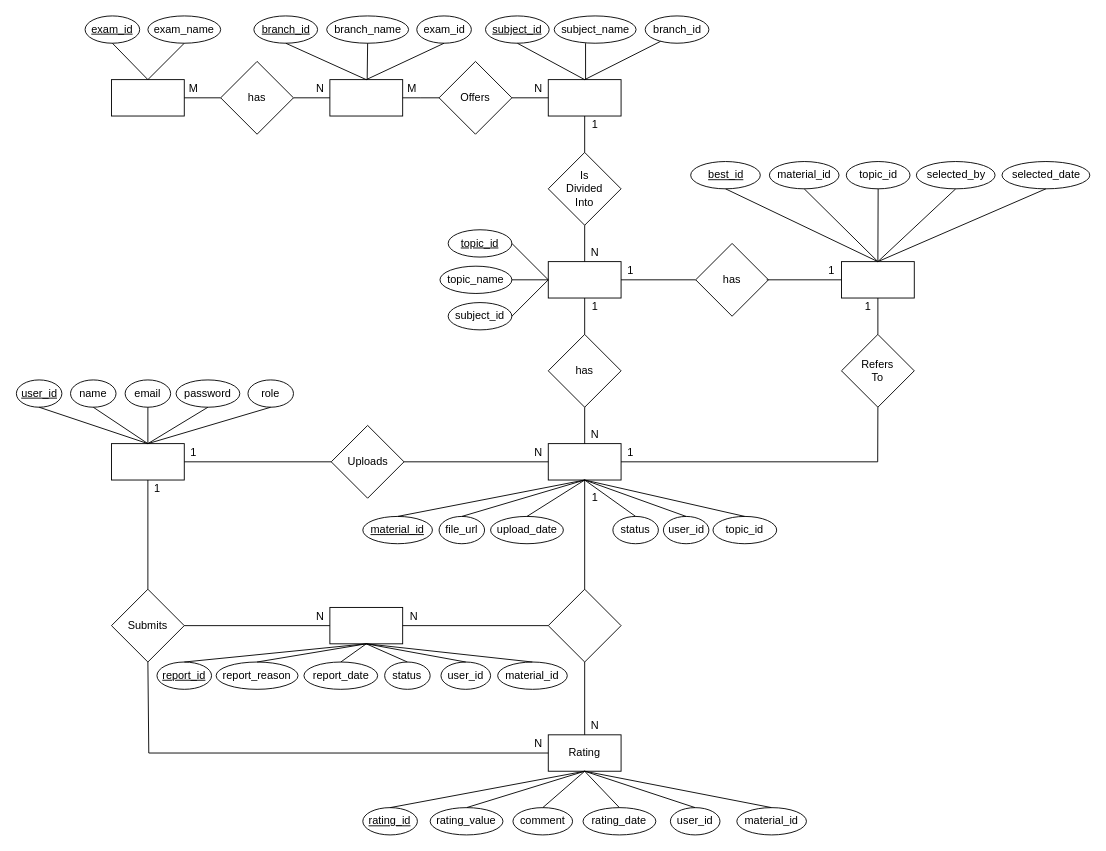
Some shapes in this 1106 by 851 pixel diagram are drawn without their labels. Each missing label, with the centre of its shape:
"Best Material" belongs at point 877,279.
"Branch" belongs at point 366,97.
"Exam" belongs at point 147,97.
"Receives" belongs at point 584,625.
"Report" belongs at point 366,625.
"Study Material" belongs at point 584,461.
"Subject" belongs at point 584,97.
"Topic" belongs at point 584,279.
"User" belongs at point 147,461.
